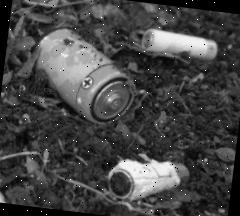electronic: (14, 18, 152, 152)
